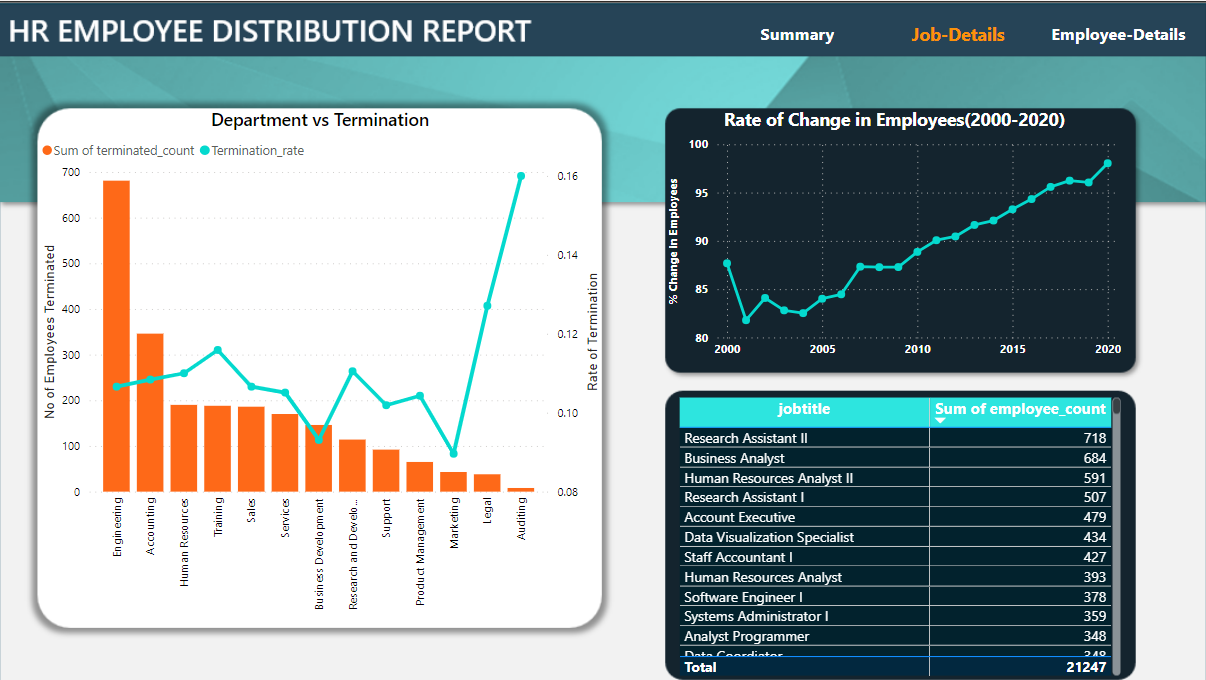

This screenshot's page, from the dashboard's own definition file:
{"tool":"powerbi","page":{"name":"Job-Details","canvas":[1280,720],"ordinal":1},"visuals":[{"type":"lineChart","title":"Rate of Change in Employees(2000-2020)","fields":{"Category":["employee_change.year"],"Y":["Sum(employee_change.net_change_percent)"]},"box":[704.1,112.8,489.5,273.4],"z":0},{"type":"lineStackedColumnComboChart","title":"Department vs Termination","fields":{"Category":["turnover_rate.department"],"Y2":["Sum(turnover_rate.termination_rate)"],"Y":["Sum(turnover_rate.terminated_count)"]},"box":[39.7,112.8,600.8,546.8],"z":1000},{"type":"tableEx","fields":{"Values":["department_sub.jobtitle","Sum(department_sub.employee_count)"]},"box":[715.2,414.8,478.4,305.2],"z":2000},{"type":"pageNavigator","box":[766.1,11.1,502.3,47.7],"z":2001}]}

Visuals, with their boxes in screenshot pixels (x1, y1, x2, y2), scaled from the page's 1280x720 canvas onto the 1206x680 screenshot:
"Rate of Change in Employees(2000-2020)" lineChart: 663 107 1125 365
"Department vs Termination" lineStackedColumnComboChart: 37 107 603 623
tableEx - department_sub.jobtitle x Sum(department_sub.employee_count): 674 392 1125 679
pageNavigator: 722 10 1195 56
